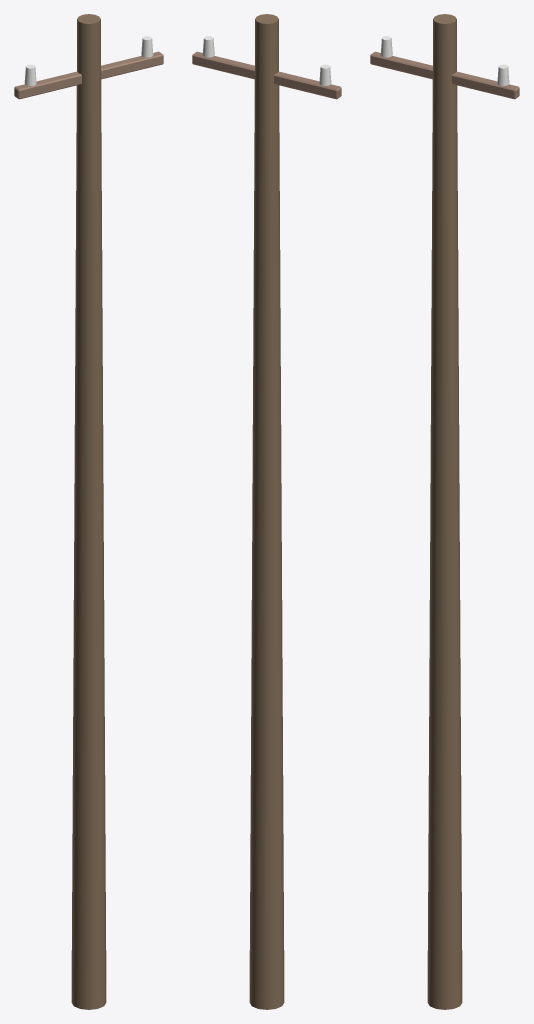
The model's file is Sultanbeyli_PowerPole_Wood.fbx.
The picture shows the model from 3 angles, left to right: view 1: azimuth 30°, elevation 25°; view 2: azimuth 150°, elevation 25°; view 3: azimuth 330°, elevation 25°; orthographic projection.
Parts seen in each view (by area): view 1: Sultanbeyli_PowerPole_Wood; view 2: Sultanbeyli_PowerPole_Wood; view 3: Sultanbeyli_PowerPole_Wood.
Part boxes in pixels (box(x1,y1,x2,y2)): Sultanbeyli_PowerPole_Wood: box(14, 14, 163, 1009); Sultanbeyli_PowerPole_Wood: box(192, 14, 341, 1009); Sultanbeyli_PowerPole_Wood: box(370, 14, 519, 1009).
Bounding box in the file's own units: 1.35 × 8.7 × 0.28.
